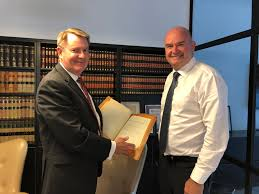F_M_suit jacket: (38, 63, 120, 191)
F_shirt: (155, 62, 228, 179)
F_tie: (158, 70, 181, 161)
